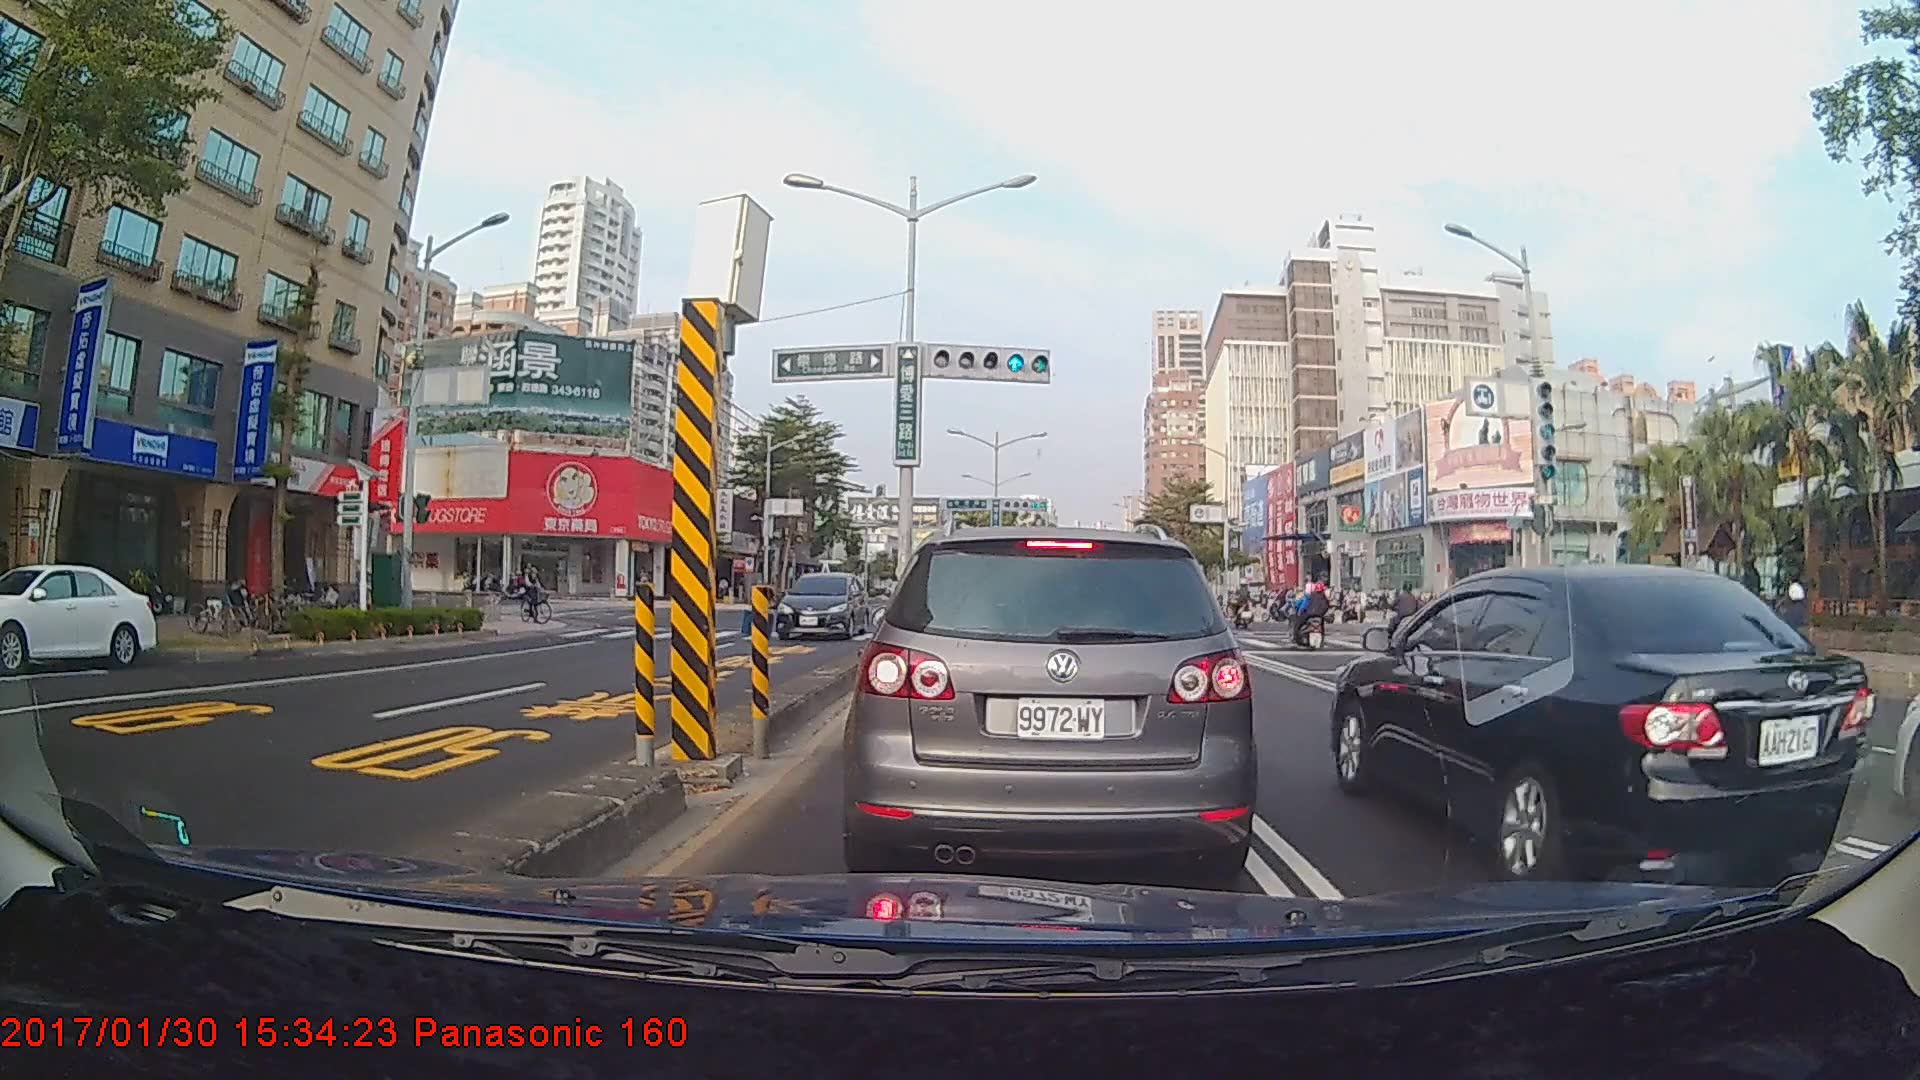rider: (1287, 582, 1340, 656), (1388, 580, 1434, 657), (518, 559, 561, 629)
vehicle: (1330, 560, 1873, 877), (854, 521, 1256, 876), (0, 561, 157, 671), (775, 572, 870, 639)
